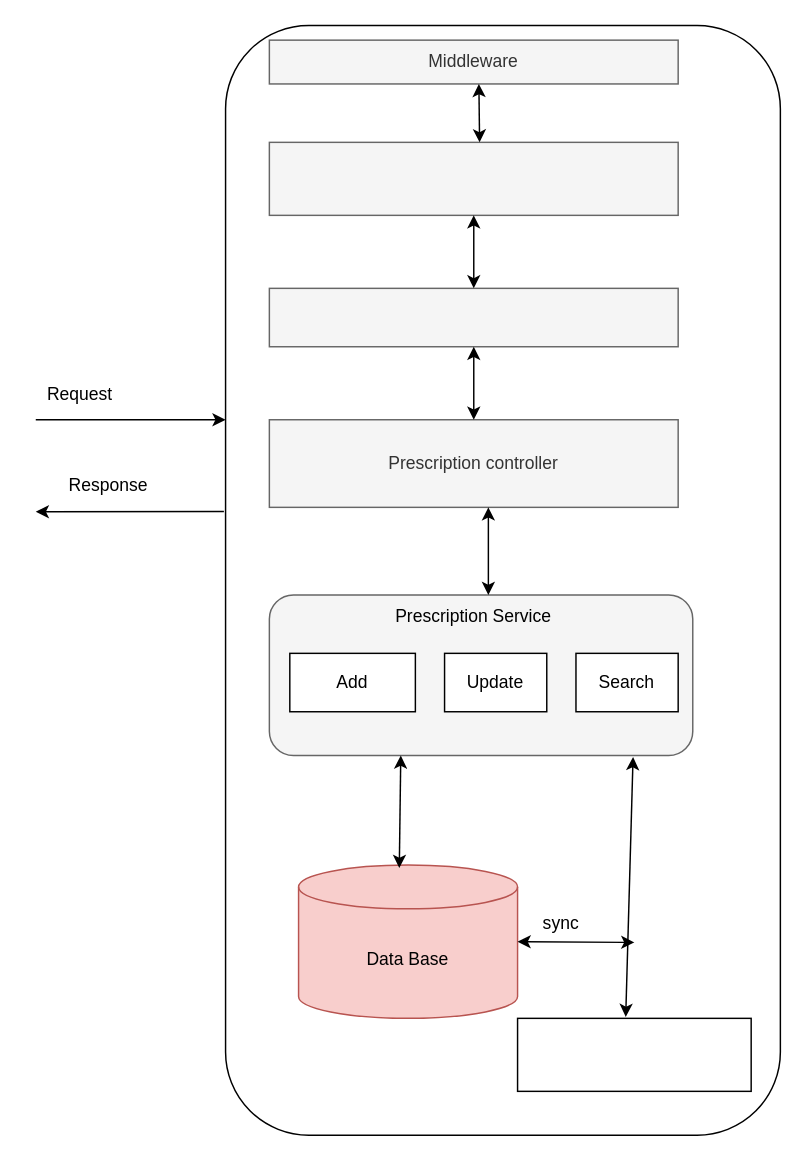
Image size: 806x1161. Some labels were removed from this diagram. The centre of each missing label's shape, as x and y in pixels:
"External API Call" goes at point 633,1054.
"Prescription Routing" goes at point 473,317.
"Validation Pipe" goes at point 473,178.
